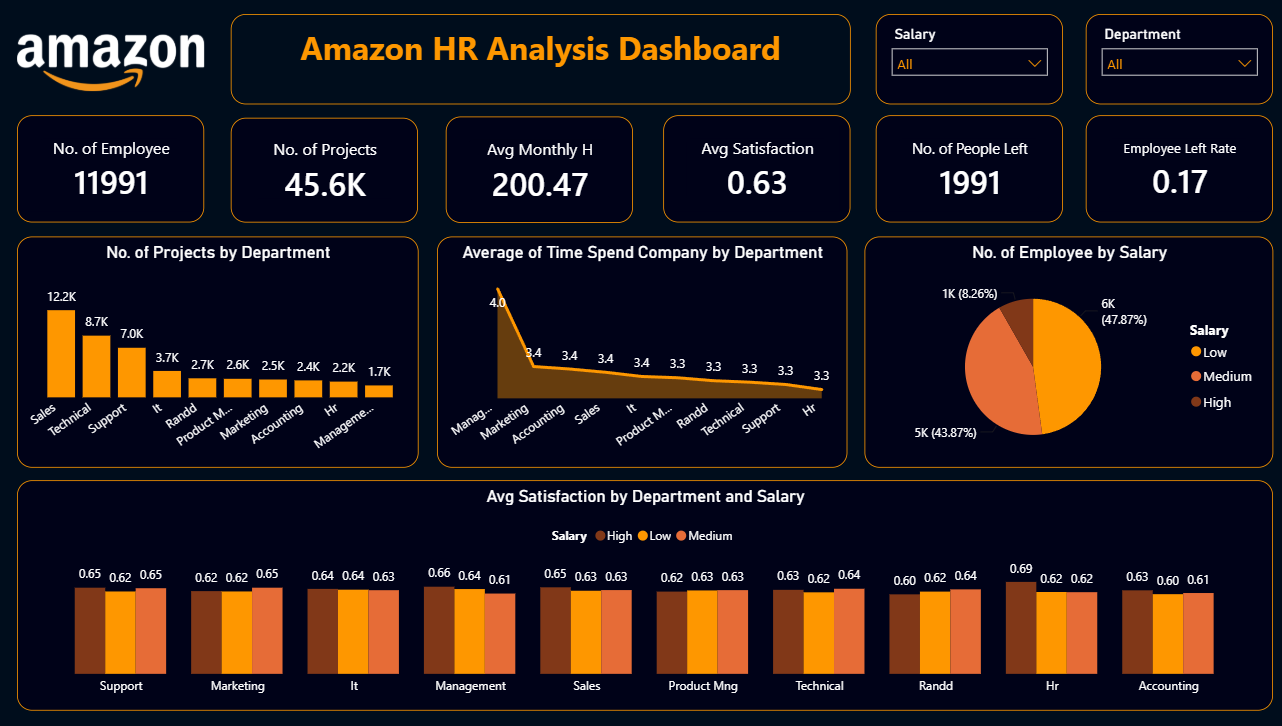

What the dashboard file says about the page in this screenshot:
{"tool":"powerbi","page":{"name":"Dashboard","canvas":[1290,740],"ordinal":1},"visuals":[{"type":"columnChart","fields":{"Category":["HR_comma_sep.Department"],"Y":["DAX Measures.No. of Projects"]},"box":[20,237.5,401.2,231.2],"z":0},{"type":"pieChart","fields":{"Category":["HR_comma_sep.Salary"],"Y":["DAX Measures.No. of Employee"]},"box":[867.5,237.5,408.8,231.2],"z":1000},{"type":"lineChart","fields":{"Category":["HR_comma_sep.Department"],"Y":["Avg(HR_comma_sep.Time Spend Company)"]},"box":[440,237.5,410,231.2],"z":2000},{"type":"cardVisual","fields":{"Data":["DAX Measures.No. of Employee"]},"box":[20,116.2,187.5,107.5],"z":3000},{"type":"cardVisual","fields":{"Data":["DAX Measures.No. of Projects"]},"box":[233.8,118.8,187.5,105],"z":4000},{"type":"cardVisual","fields":{"Data":["DAX Measures.Avg of Monthly Hours"]},"box":[448.8,117.5,187.5,106.2],"z":5000},{"type":"cardVisual","fields":{"Data":["DAX Measures.Avg Satisfaction"]},"box":[666.2,116.2,187.5,107.5],"z":6000},{"type":"cardVisual","fields":{"Data":["DAX Measures.No. of People Left"]},"box":[878.8,116.2,187.5,107.5],"z":7000},{"type":"cardVisual","fields":{"Data":["DAX Measures.Employee Left Rate"]},"box":[1088.8,116.2,187.5,107.5],"z":8000},{"type":"image","box":[20,22.5,187.5,82.5],"z":9000},{"type":"textbox","box":[233.8,15,620,90],"z":10000},{"type":"slicer","fields":{"Values":["HR_comma_sep.Department"]},"box":[1088.8,15,187.5,90],"z":11000},{"type":"slicer","fields":{"Values":["HR_comma_sep.Salary"]},"box":[878.8,15,187.5,90],"z":12000},{"type":"clusteredColumnChart","fields":{"Category":["HR_comma_sep.Department"],"Series":["HR_comma_sep.Salary"],"Y":["DAX Measures.Avg Satisfaction"]},"box":[20,481.2,1255.7,230],"z":13000}]}

Visuals, with their boxes in screenshot pixels (x1, y1, x2, y2), scaled from the page's 1290x740 canvas onto the 1282x726 screenshot:
columnChart - HR_comma_sep.Department x DAX Measures.No. of Projects: bbox=[20, 233, 419, 460]
pieChart - HR_comma_sep.Salary x DAX Measures.No. of Employee: bbox=[862, 233, 1268, 460]
lineChart - HR_comma_sep.Department x Avg(HR_comma_sep.Time Spend Company): bbox=[437, 233, 845, 460]
cardVisual - DAX Measures.No. of Employee: bbox=[20, 114, 206, 219]
cardVisual - DAX Measures.No. of Projects: bbox=[232, 117, 419, 220]
cardVisual - DAX Measures.Avg of Monthly Hours: bbox=[446, 115, 632, 219]
cardVisual - DAX Measures.Avg Satisfaction: bbox=[662, 114, 848, 219]
cardVisual - DAX Measures.No. of People Left: bbox=[873, 114, 1060, 219]
cardVisual - DAX Measures.Employee Left Rate: bbox=[1082, 114, 1268, 219]
image: bbox=[20, 22, 206, 103]
textbox: bbox=[232, 15, 849, 103]
slicer - HR_comma_sep.Department: bbox=[1082, 15, 1268, 103]
slicer - HR_comma_sep.Salary: bbox=[873, 15, 1060, 103]
clusteredColumnChart - HR_comma_sep.Department x HR_comma_sep.Salary: bbox=[20, 472, 1268, 698]
